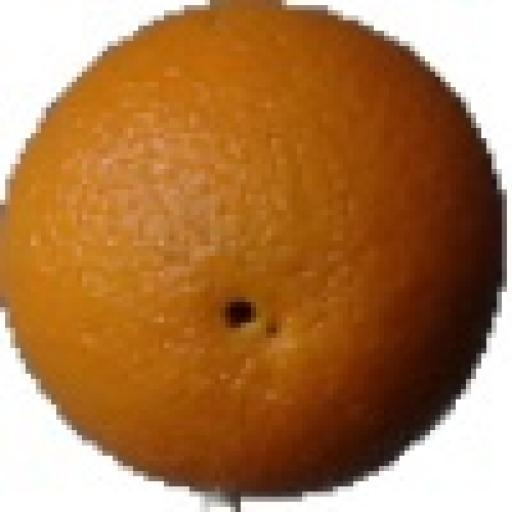orange: (6, 6, 501, 491)
